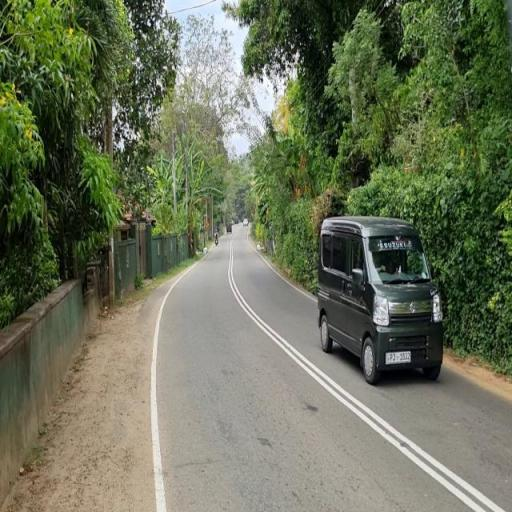double_white_line: (230, 237, 505, 512)
